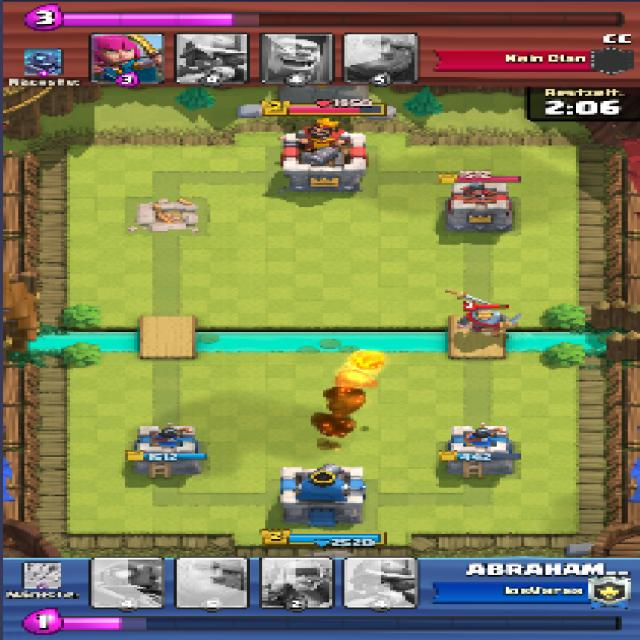Enemy-Knight: (455, 308, 519, 338)
Player-Fireball: (333, 350, 391, 384)
